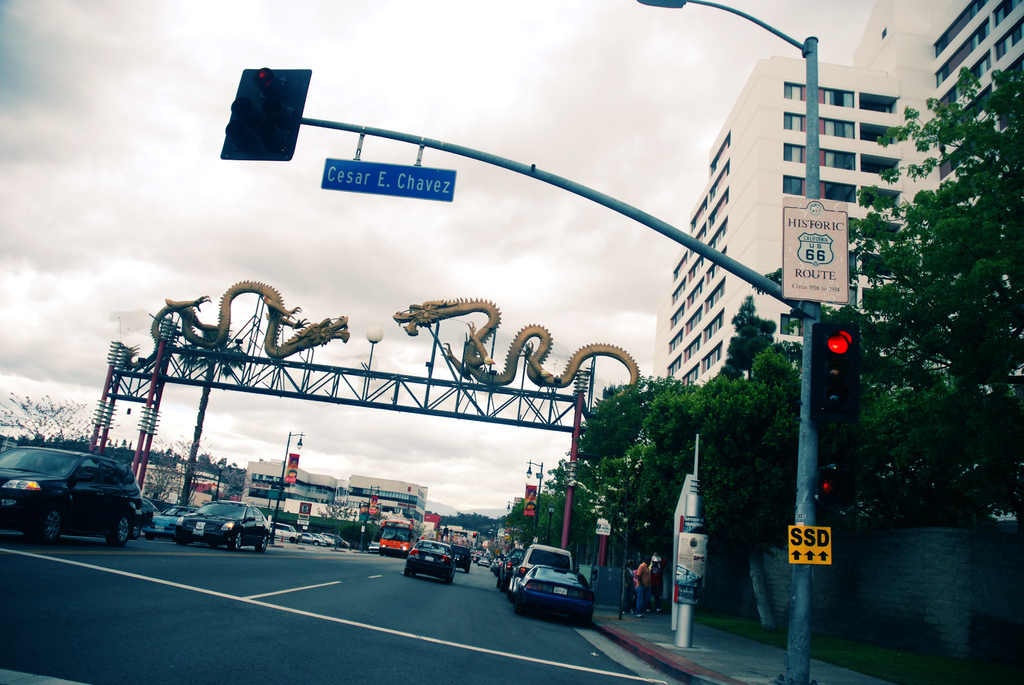red_light: (816, 328, 860, 430)
